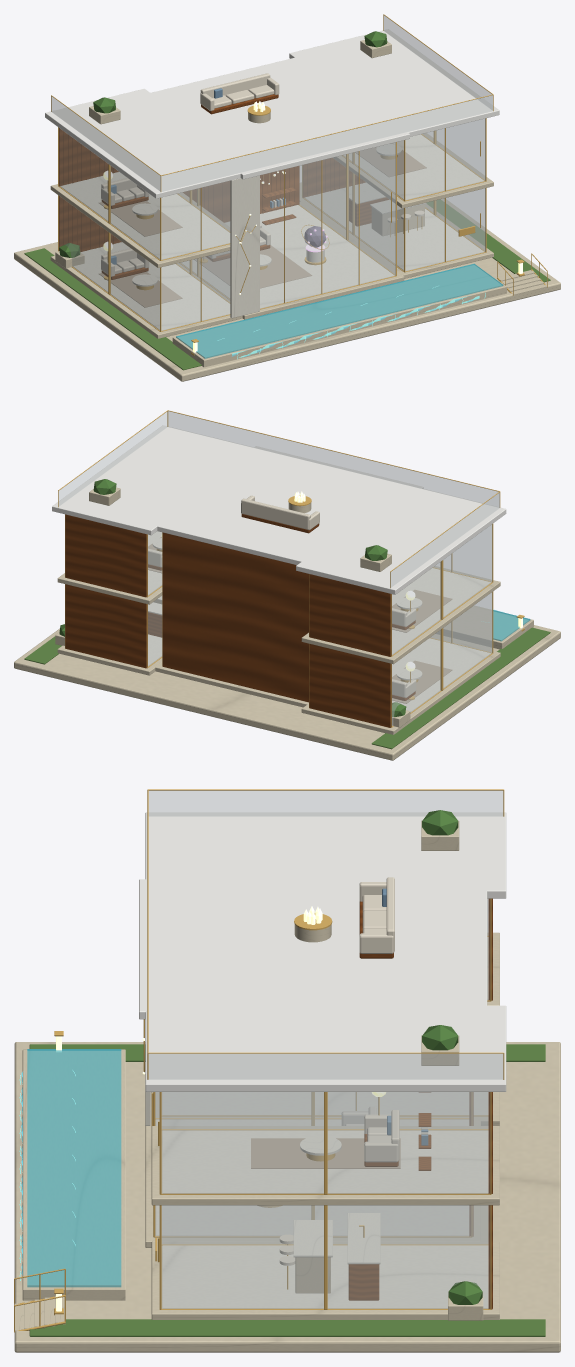
File: House3.glb
3 renders of one model, top to bottom at view 1: azimuth 30°, elevation 25°; view 2: azimuth 150°, elevation 25°; view 3: azimuth 270°, elevation 25°, orthographic. The views are drawn at different scales.
Visible parts, largest first — view 1: House3, Base; view 2: House3, Base; view 3: House3, Base.
Part boxes in pixels (bbox=[...]): House3: bbox=[24, 14, 550, 370]; Base: bbox=[14, 182, 560, 381]; House3: bbox=[24, 410, 550, 749]; Base: bbox=[14, 625, 560, 760]; House3: bbox=[14, 789, 545, 1336]; Base: bbox=[14, 1042, 560, 1352].
Size of the model in its own units: 56 by 24.79 by 43.05.
Materials: 17 (3 with a texture image).
